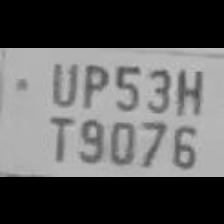0: (104, 113, 134, 165)
3: (141, 60, 171, 112)
5: (108, 58, 142, 110)
6: (166, 119, 200, 169)
7: (135, 115, 165, 167)
9: (73, 111, 103, 163)
H: (171, 62, 205, 116)
P: (77, 57, 109, 109)
T: (40, 109, 74, 161)
U: (46, 57, 78, 107)
